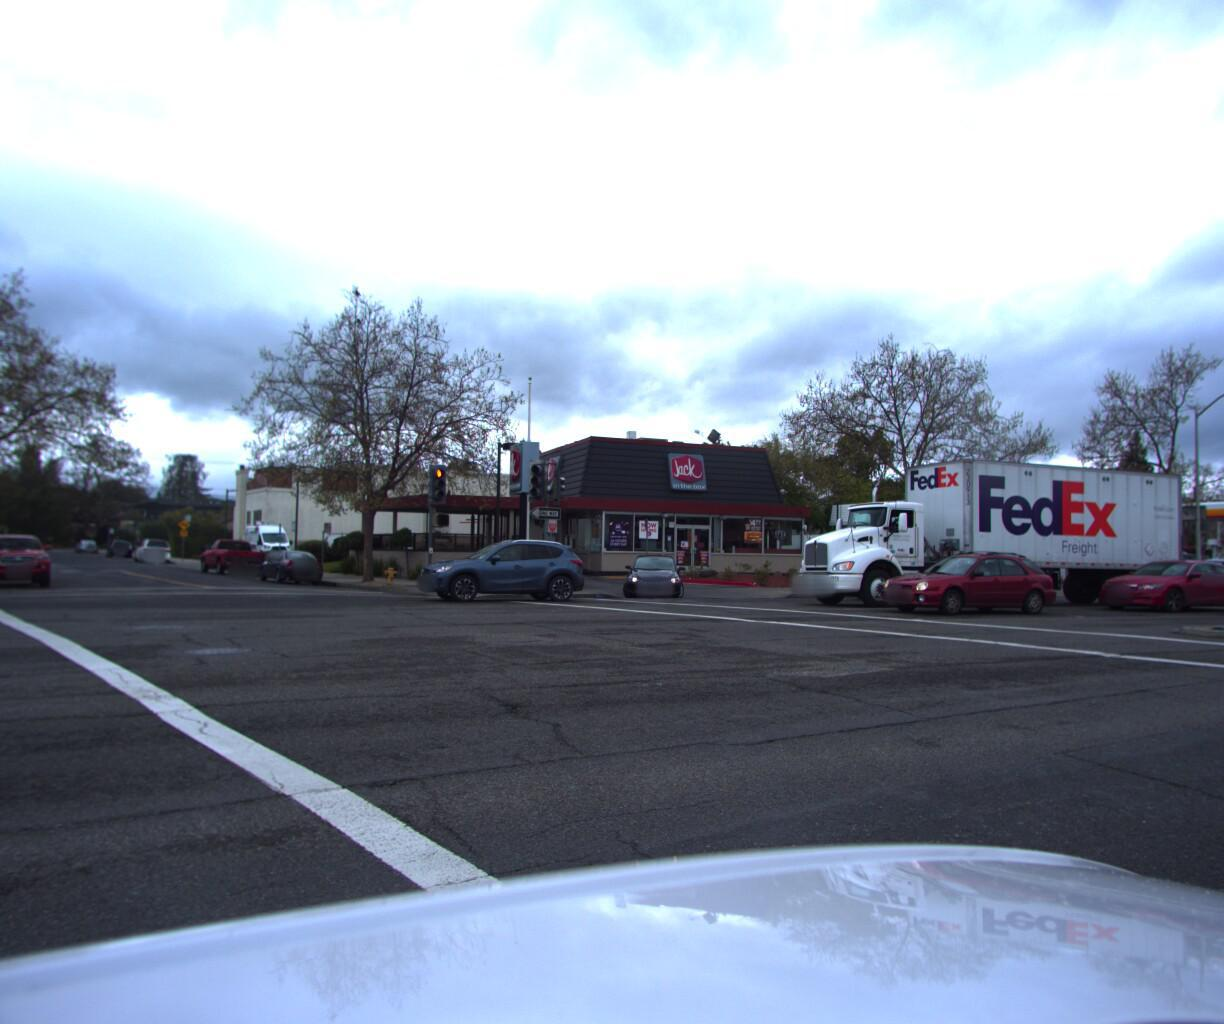car: (873, 555, 1067, 621), (410, 541, 589, 610), (1077, 563, 1224, 622), (0, 542, 58, 599), (200, 545, 271, 588), (258, 557, 327, 597), (1160, 571, 1224, 607), (1144, 545, 1213, 576), (135, 546, 179, 573), (1204, 556, 1224, 588), (110, 549, 143, 567), (0, 556, 19, 587)
truck: (777, 447, 1194, 620), (243, 530, 297, 571)
